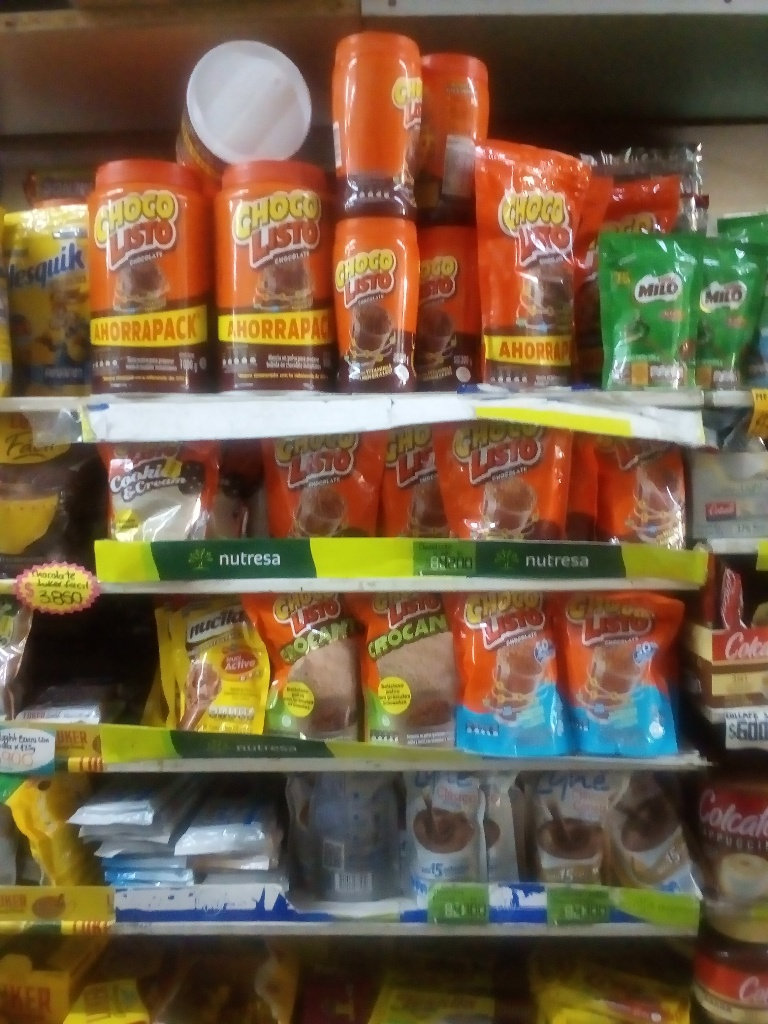COL0170102DYP50000: (260, 594, 363, 734)
COL0170103DYP20000: (261, 421, 379, 538)
COL0170103DYP40000: (476, 137, 596, 395)
COL0170103TRR00100: (89, 161, 216, 390)
COL0170103TRR30000: (331, 27, 419, 207)
COL0170203DYP10000: (600, 229, 699, 398)
COL0170303DYP20000: (0, 177, 104, 401)
